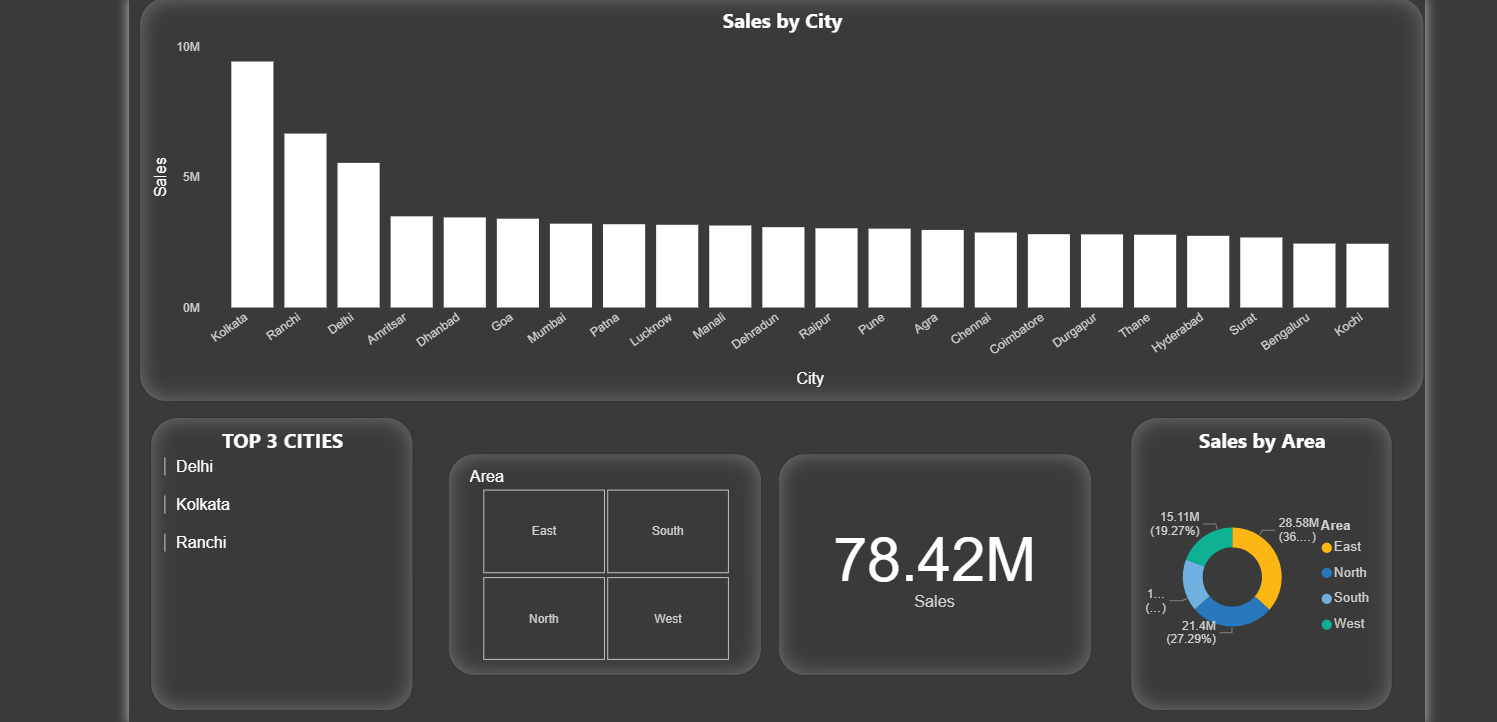

The dashboard page shown, as its layout file describes it:
{"tool":"powerbi","page":{"name":"CITY AND REGION","canvas":[1280,720],"ordinal":2},"visuals":[{"type":"clusteredColumnChart","fields":{"Y":["Sales.Sales"],"Category":["Customer.City"]},"box":[9.9,0,1269.9,399.7],"z":0},{"type":"multiRowCard","title":"TOP 3 CITIES","fields":{"Values":["Customer.City"]},"box":[21.3,415.3,260,290],"z":1000},{"type":"donutChart","fields":{"Y":["Sales.Sales"],"Series":["Customer.Area"]},"box":[989.3,415.3,259.4,290.6],"z":2000},{"type":"slicer","fields":{"Values":["Customer.Area"]},"box":[314.6,450.7,310.4,220],"z":3000},{"type":"card","fields":{"Values":["Sales.Sales"]},"box":[640.6,450.7,310.4,219.7],"z":4001}]}

Visuals, with their boxes on the page's 1280x720 design canvas (x1, y1, x2, y2). These are canvas units, not pixel positions in the 1497x722 screenshot, which may show the page scaled, cropped or inside an application window:
clusteredColumnChart - Sales.Sales x Customer.City: (x1=10, y1=0, x2=1280, y2=400)
"TOP 3 CITIES" multiRowCard: (x1=21, y1=415, x2=281, y2=705)
donutChart - Sales.Sales x Customer.Area: (x1=989, y1=415, x2=1249, y2=706)
slicer - Customer.Area: (x1=315, y1=451, x2=625, y2=671)
card - Sales.Sales: (x1=641, y1=451, x2=951, y2=670)
